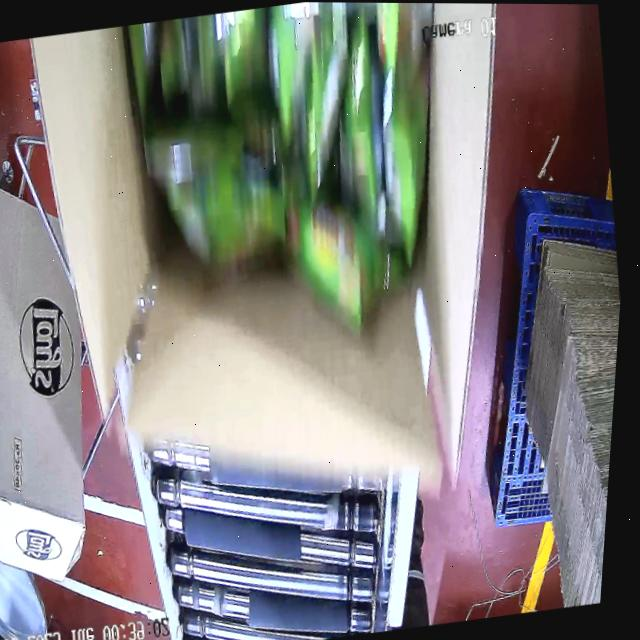YOGURT_HERB: (117, 1, 449, 299)
